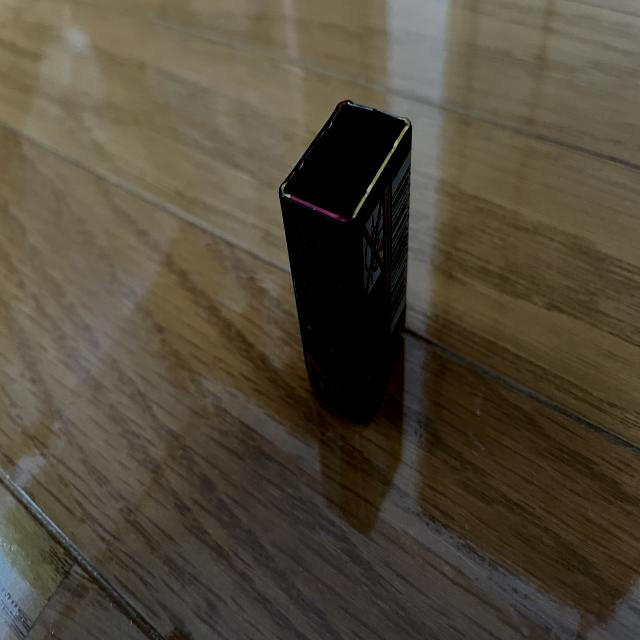9V: (278, 101, 412, 416)
